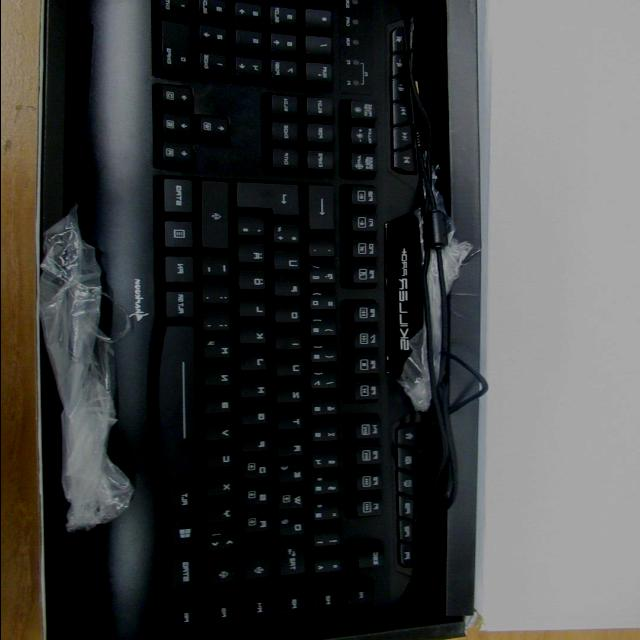0: (311, 293, 341, 313)
1: (315, 530, 344, 551)
2: (314, 503, 344, 525)
3: (313, 477, 345, 498)
4: (313, 451, 345, 471)
5: (312, 424, 344, 445)
6: (312, 398, 343, 419)
7: (311, 372, 343, 392)
8: (312, 346, 344, 366)
9: (312, 320, 344, 340)
a: (244, 514, 275, 536)
accent: (310, 240, 341, 260)
ae: (239, 245, 269, 266)
alt-left: (171, 487, 203, 516)
altgr-right: (167, 292, 199, 322)
b: (206, 395, 236, 417)
c: (207, 449, 237, 471)
caret: (316, 556, 346, 576)
comma: (204, 314, 234, 335)
d: (243, 461, 273, 483)
del: (310, 187, 339, 233)
e: (279, 465, 309, 487)
enter: (238, 184, 303, 218)
f: (243, 434, 271, 455)
g: (243, 407, 271, 427)
h: (242, 381, 271, 401)
hash: (239, 219, 269, 239)
i: (277, 333, 305, 353)
j: (241, 353, 271, 373)
k: (241, 327, 271, 347)
keyboard: (143, 0, 402, 640)
l: (241, 300, 270, 320)
less: (209, 531, 240, 554)
m: (205, 340, 235, 362)
minus: (204, 258, 234, 280)
n: (205, 368, 235, 390)
o: (276, 306, 305, 326)
oe: (240, 272, 269, 293)
p: (276, 279, 304, 299)
plus: (274, 226, 304, 247)
point: (204, 286, 234, 308)
q: (280, 518, 309, 540)
r: (279, 439, 307, 460)
s: (244, 488, 274, 510)
shift-left: (209, 559, 239, 588)
shift-lock: (245, 541, 275, 583)
shift-right: (202, 182, 232, 251)
space: (157, 326, 201, 482)
ss: (310, 267, 342, 287)
strg-left: (171, 555, 204, 592)
strg-right: (165, 179, 197, 217)
t: (278, 413, 307, 433)
tab: (279, 544, 310, 579)
u: (277, 359, 306, 379)
ue: (274, 253, 304, 273)
v: (206, 422, 236, 444)
w: (279, 492, 309, 513)
x: (207, 477, 237, 499)
y: (208, 504, 238, 526)
z: (278, 386, 307, 406)
